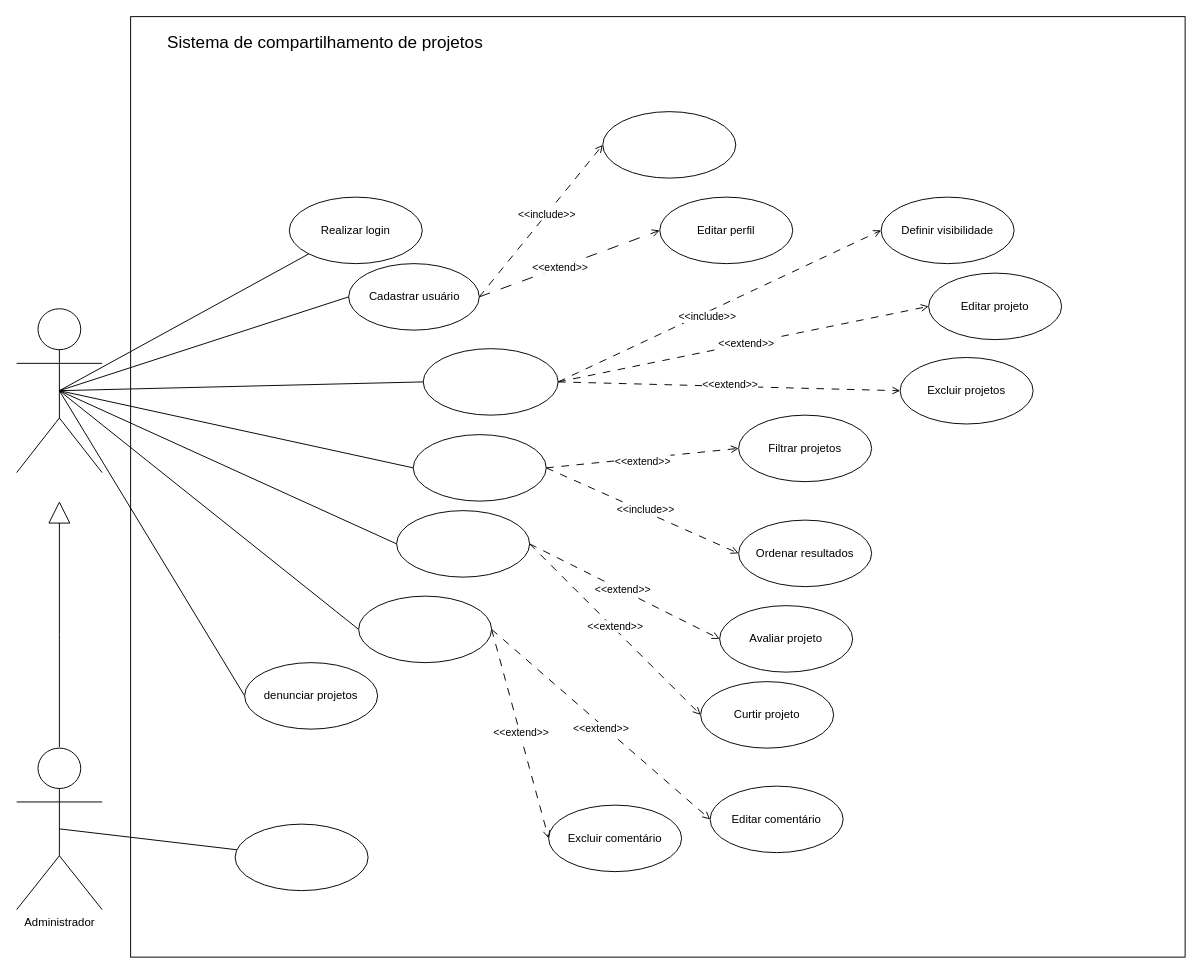
This 1202x974 diagram has some shape labels left out. The centre of each missing label's shape, as x and y in pixels:
"Buscar projetos" goes at (479,467).
"Cadastrar projetos" goes at (490,381).
"confirmar email" goes at (669,144).
"Fazer comentários próprios" goes at (425,629).
"Remover conteúdo inadequado" goes at (301,857).
"Usuário" goes at (59,390).
"Visualizar projetos públicos" goes at (463,543).
